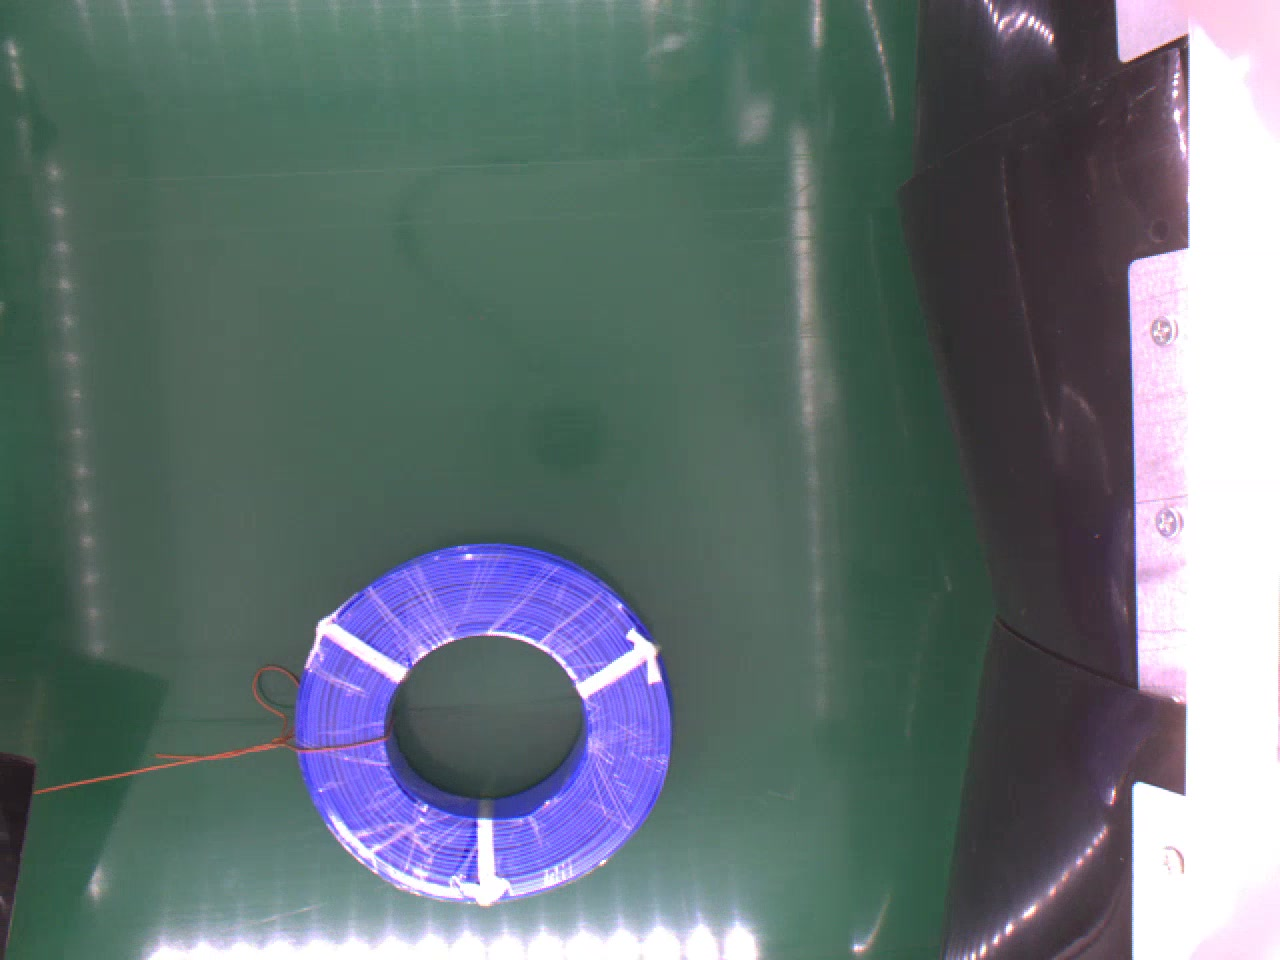blue: (286, 535, 670, 908)
